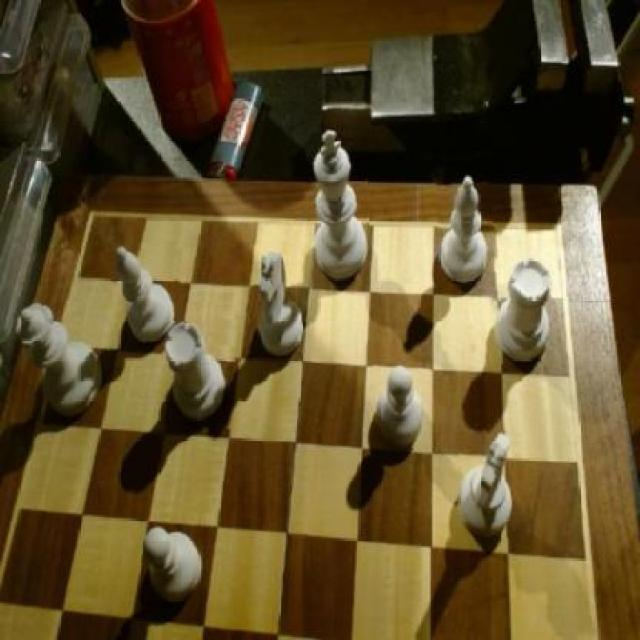black-rook: (111, 240, 180, 350), (437, 168, 495, 290)
white-bishop: (308, 118, 370, 290)
white-king: (254, 248, 313, 362), (459, 431, 516, 538)
white-knight: (142, 517, 202, 605), (374, 366, 431, 451)
white-pawn: (14, 297, 107, 419)
white-queen: (160, 320, 236, 428), (492, 254, 555, 364)
